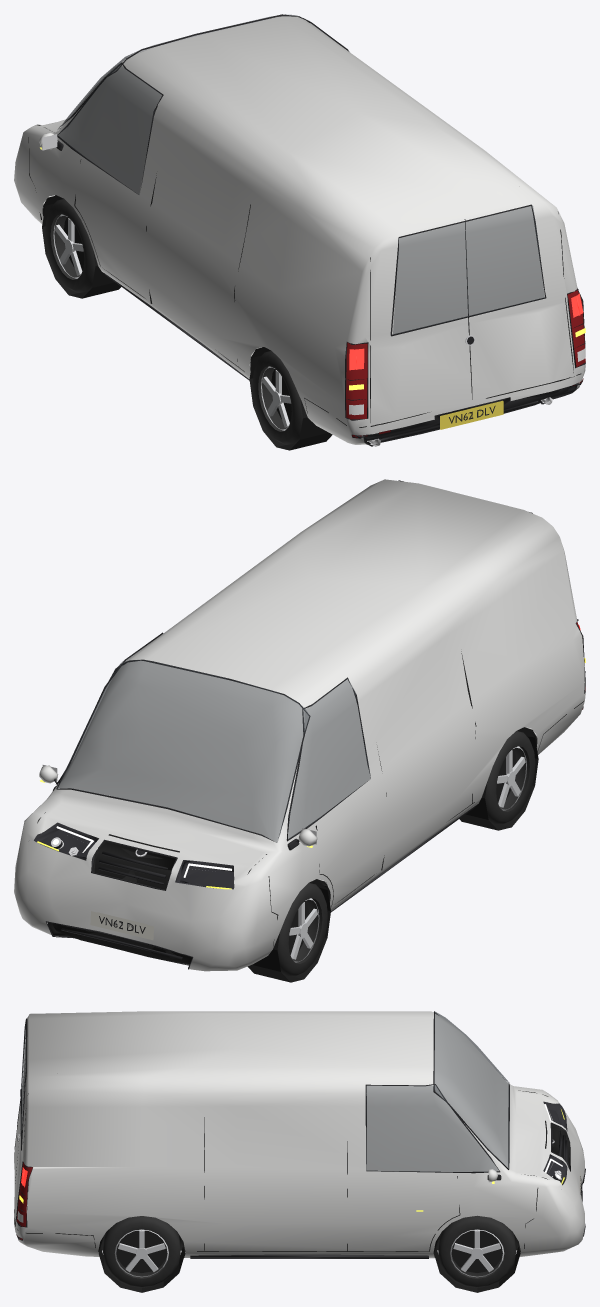
The model's file is car_van.glb.
3 renders of one model, top to bottom at view 1: azimuth 30°, elevation 25°; view 2: azimuth 150°, elevation 25°; view 3: azimuth 270°, elevation 25°, orthographic. The views are drawn at different scales.
Parts seen in each view (by area): view 1: car; view 2: car; view 3: car.
Part boxes in pixels (left/top/right/bottom): car: left=14, top=14, right=585, bottom=450; car: left=14, top=479, right=585, bottom=982; car: left=14, top=1011, right=585, bottom=1292.
Size of the model in its own units: 2.25 by 2 by 5.
